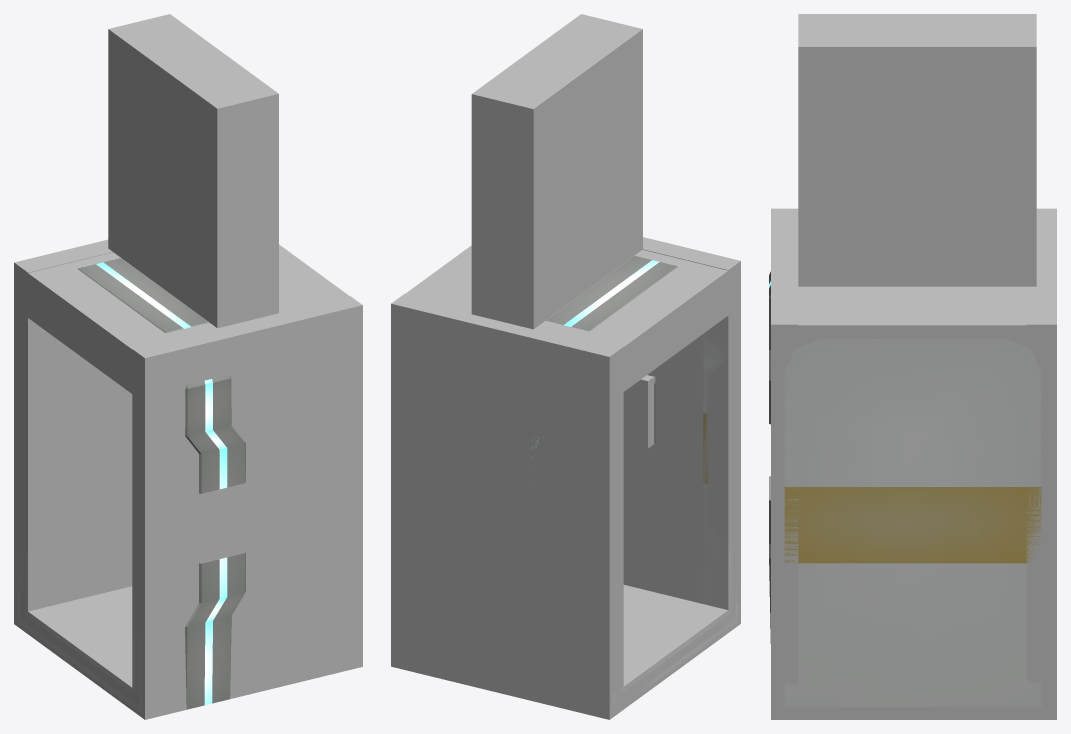
File: SM_TelephoneBooth.fbx
3 views of the same model, side by side, from view 1: azimuth 30°, elevation 25°; view 2: azimuth 150°, elevation 25°; view 3: azimuth 270°, elevation 25° (orthographic). The views are drawn at different scales.
Visible parts, largest first — view 1: SM_TelephoneBooth_ConvexHulls, SM_TelephoneBooth; view 2: SM_TelephoneBooth_ConvexHulls, SM_TelephoneBooth; view 3: SM_TelephoneBooth_ConvexHulls, SM_TelephoneBooth.
Part boxes in pixels (x1,y1,x2,y2): SM_TelephoneBooth_ConvexHulls: (14,14,362,719); SM_TelephoneBooth: (17,258,245,714); SM_TelephoneBooth_ConvexHulls: (391,14,740,719); SM_TelephoneBooth: (523,256,738,709); SM_TelephoneBooth_ConvexHulls: (771,14,1056,719); SM_TelephoneBooth: (769,271,1041,707).
Bounding box in the file's own units: 153 × 160 × 390.
